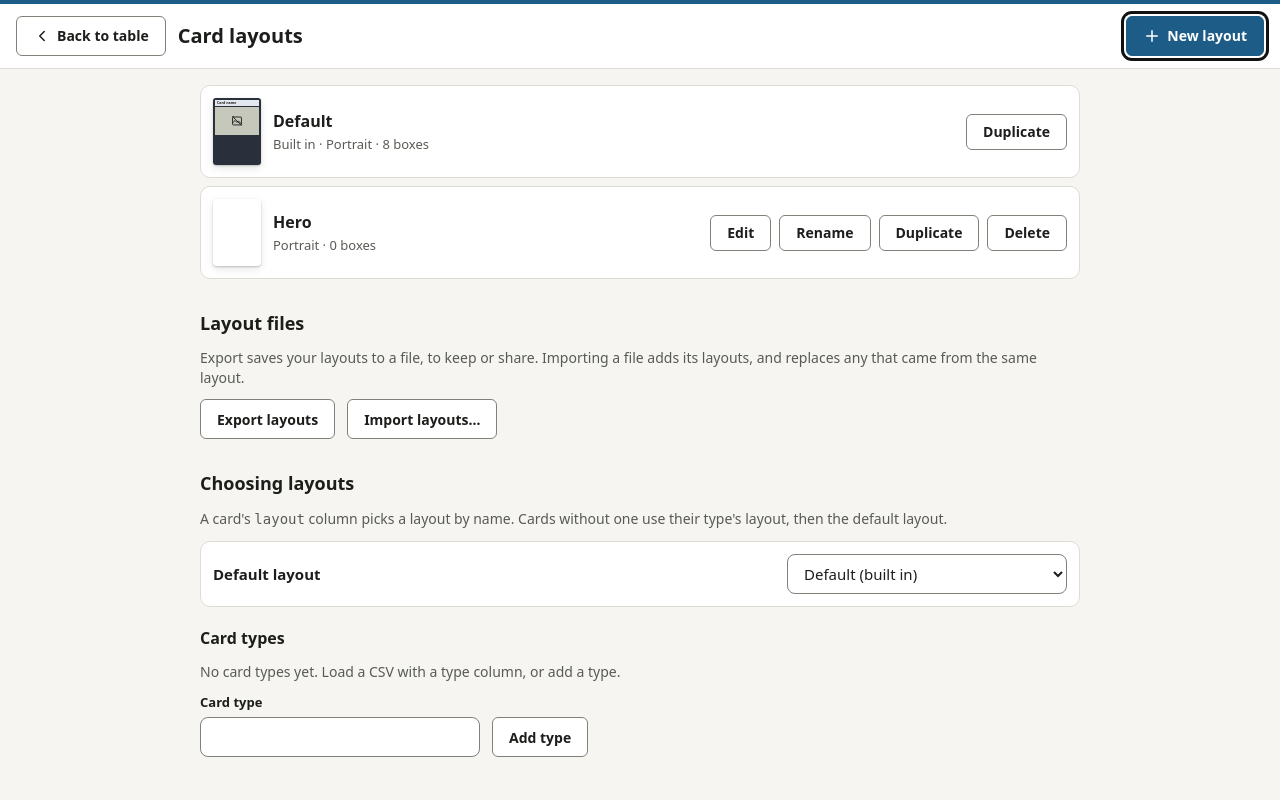
Test: LY-2 layout canvas › Edit opens a layout on the canvas, and Back to layouts returns to its row
This screenshot has width=1280, height=800.
Click the button with aria-label "Edit Hero": (741, 232) [710,214,771,250]
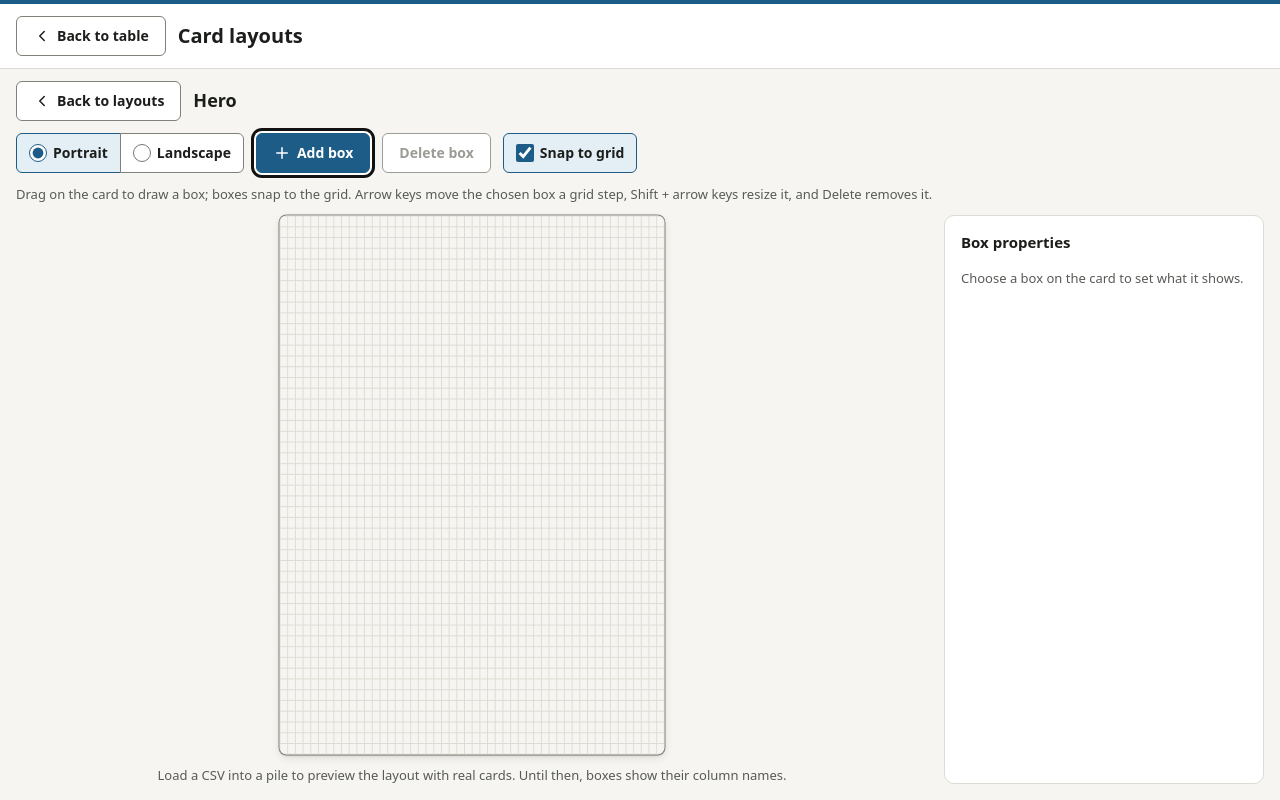
Now the heading "Hero" is shown, box [193,88,237,112]
Now the button "New layout" is gone
Click the button "Back to layouts": (99, 101) [16,81,181,121]
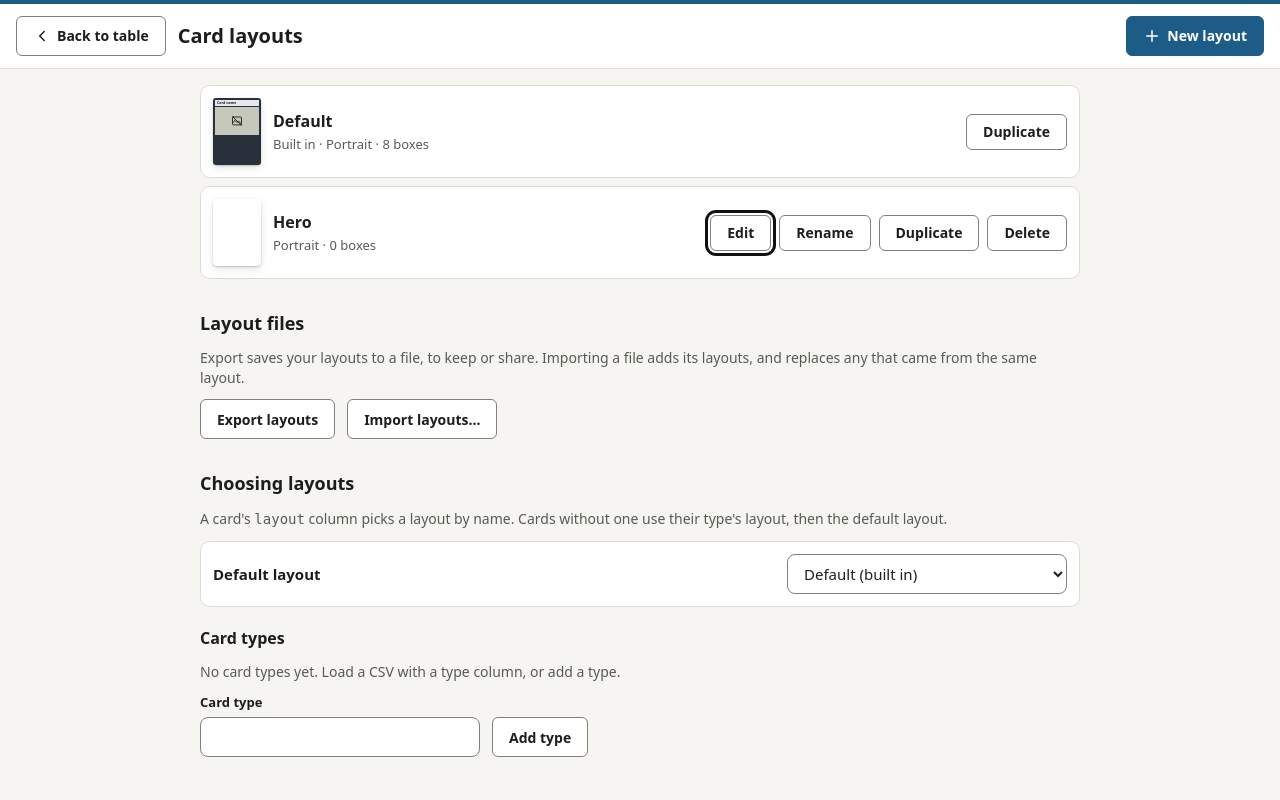
Now the list named "Card layouts" is shown, box [200,85,1080,279]
